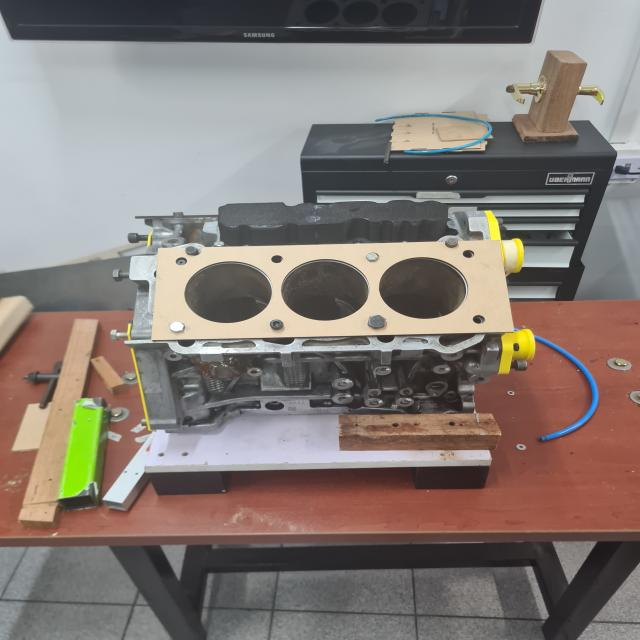vista1: (150, 240, 513, 340)
